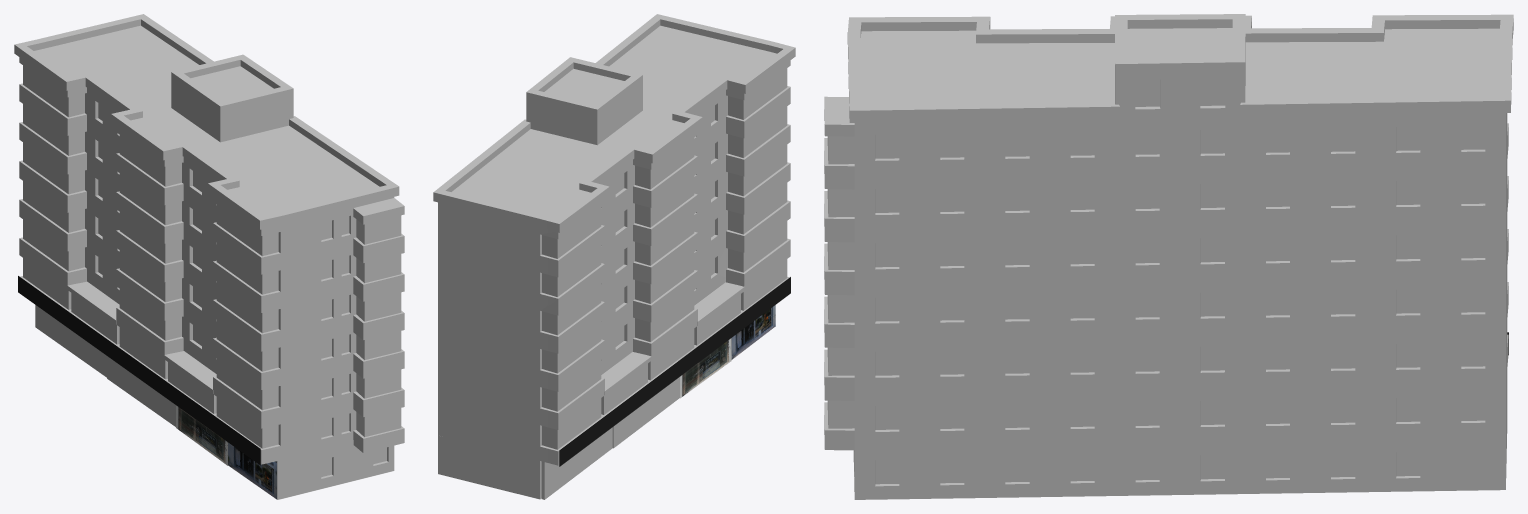
Rendered from building3.fbx.
3 views of the same model, side by side, from view 1: azimuth 30°, elevation 25°; view 2: azimuth 150°, elevation 25°; view 3: azimuth 270°, elevation 25° (orthographic). The views are drawn at different scales.
Parts seen in each view (by area): view 1: Plane002; view 2: Plane002; view 3: Plane002.
Part boxes in pixels (left/top/right/bottom): Plane002: left=14, top=14, right=404, bottom=499; Plane002: left=433, top=14, right=795, bottom=499; Plane002: left=824, top=14, right=1513, bottom=499.
Size of the model in its own units: 30.28 by 63.48 by 91.87.
